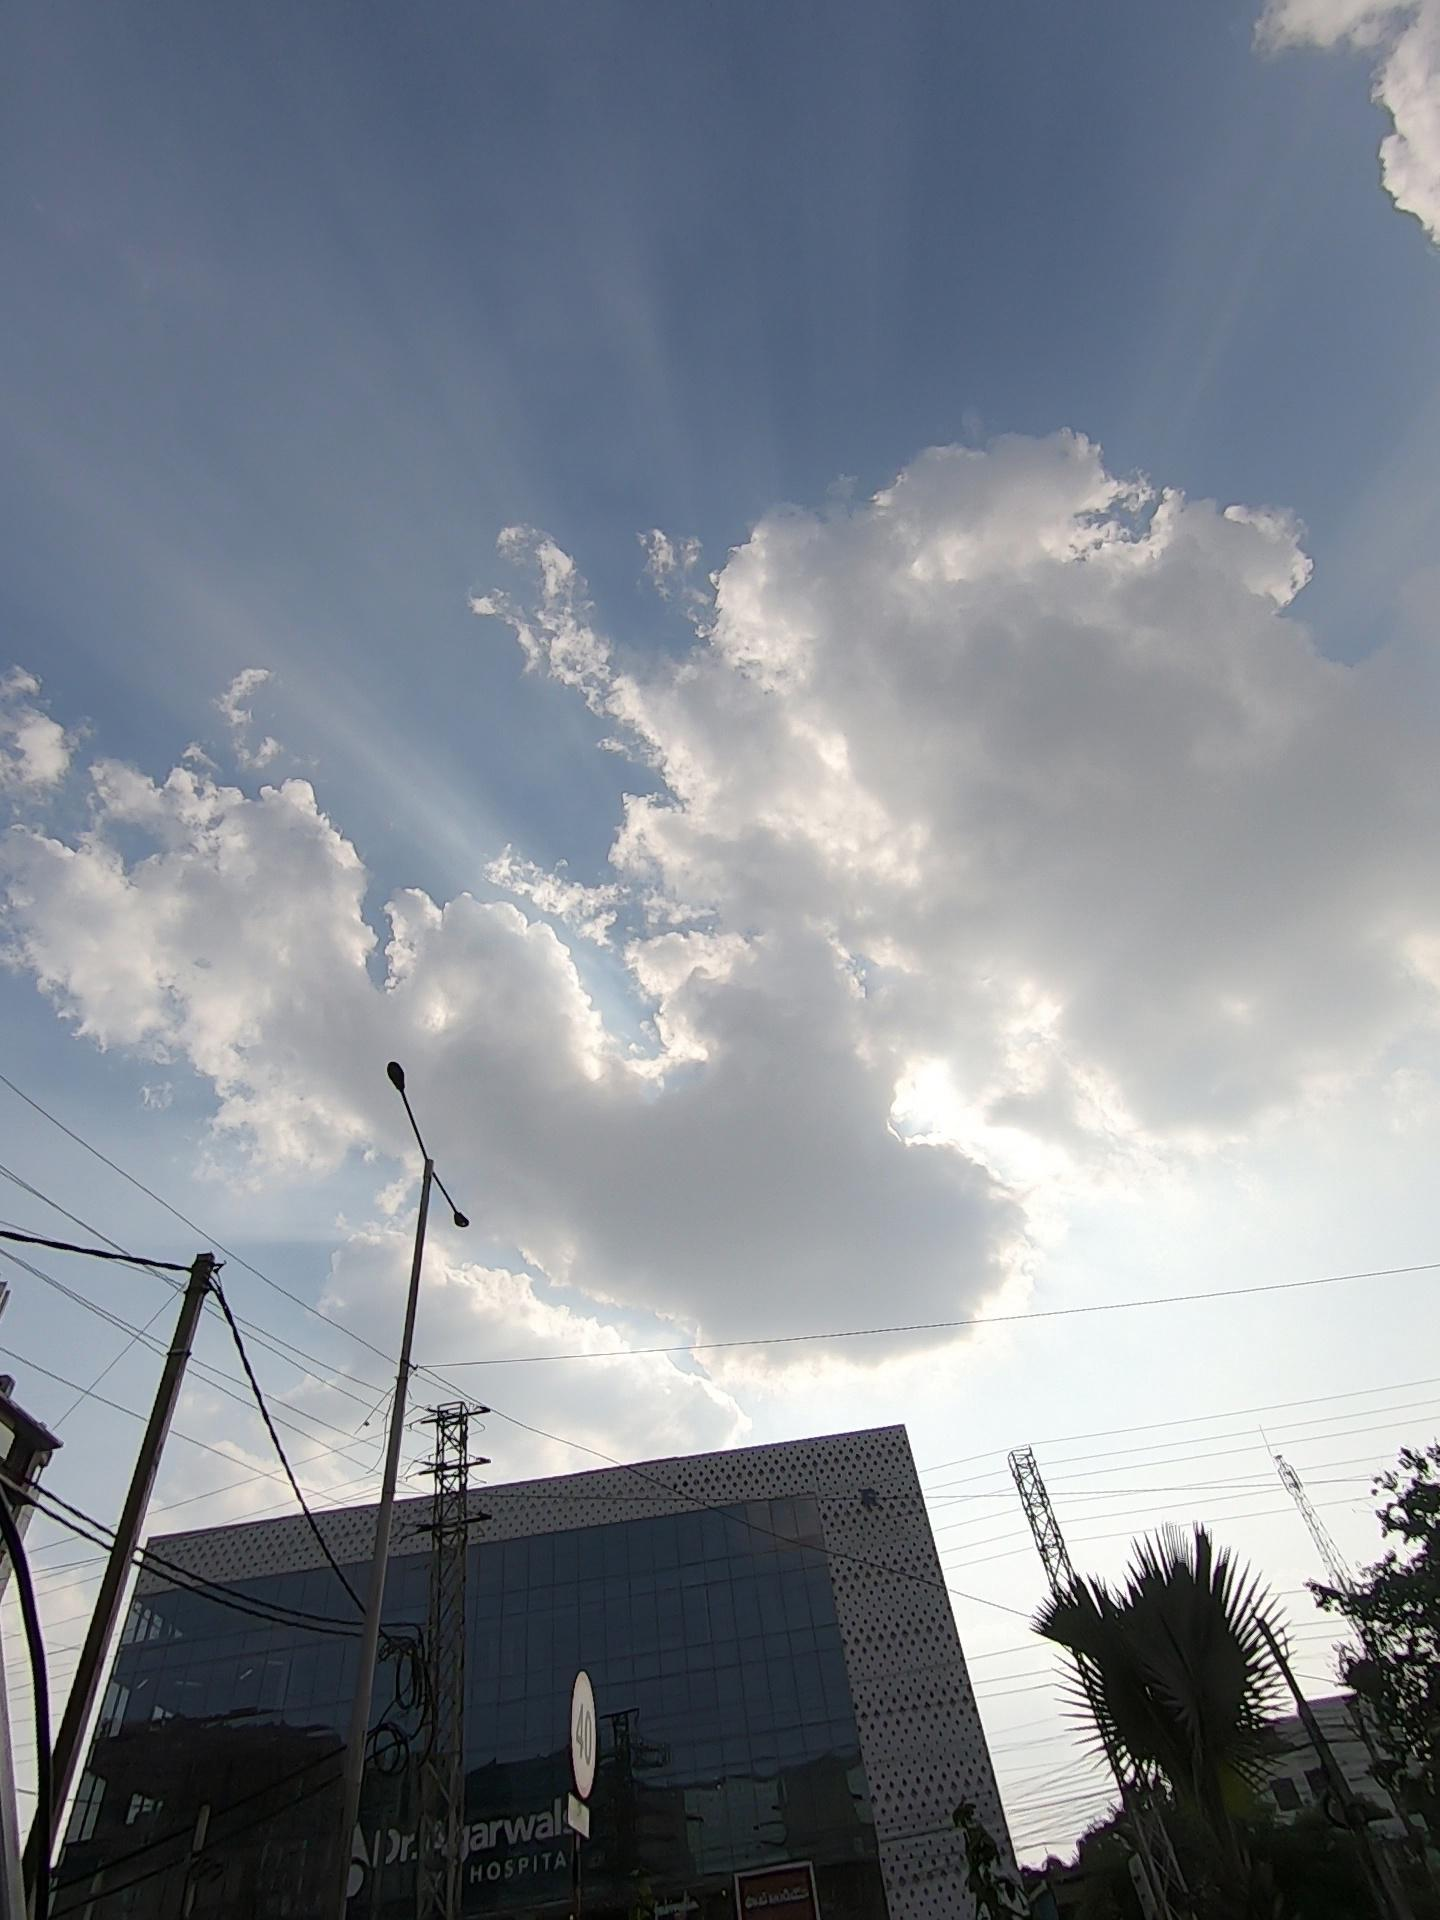off: (321, 1011, 555, 1279)
